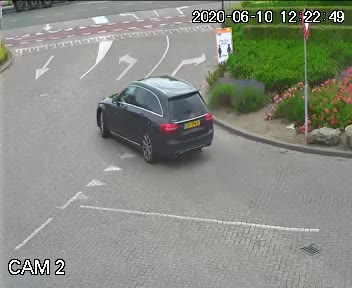car: (92, 69, 220, 174)
